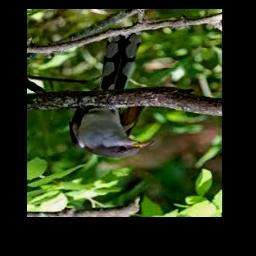Cuckoo: (70, 34, 154, 159)
